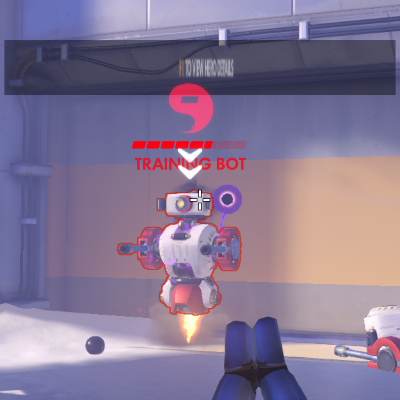hpbar: (131, 140, 247, 149)
